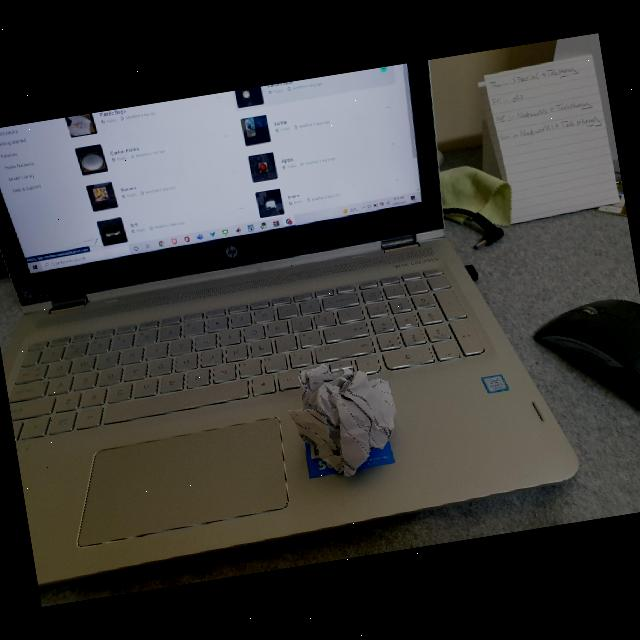trash: (265, 339, 416, 495)
